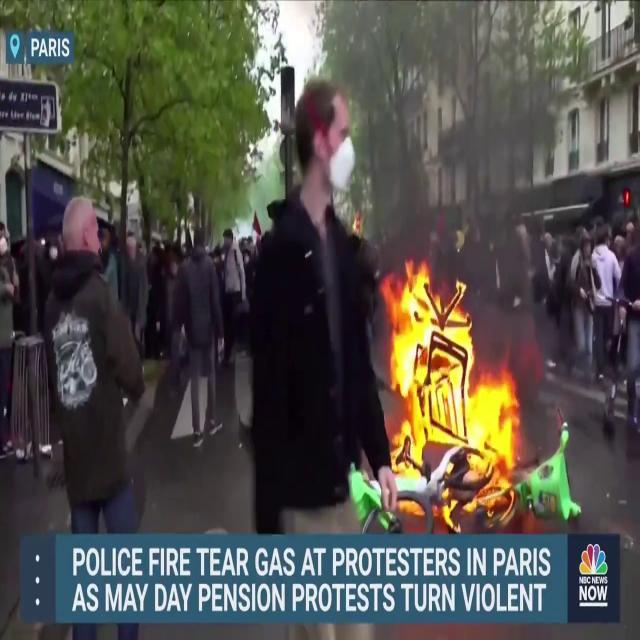Fire: (378, 250, 526, 512)
Smoke: (352, 1, 552, 312)
